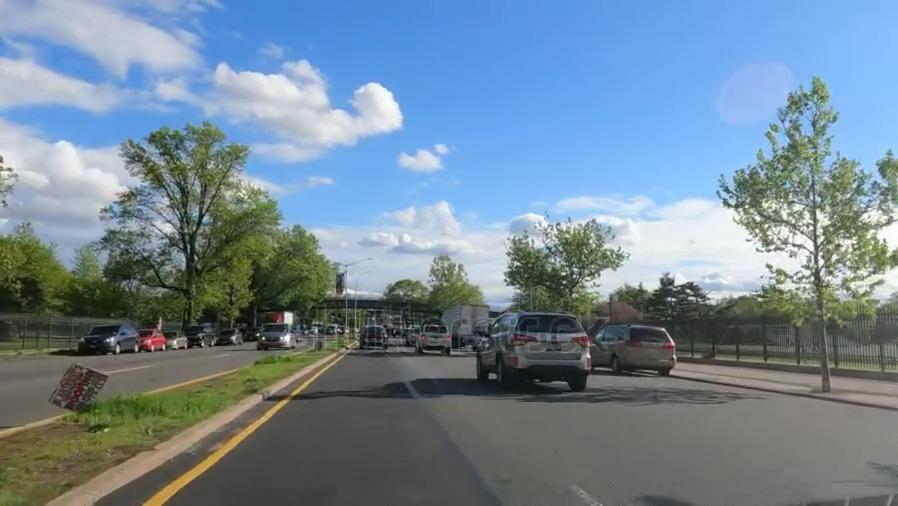car: (482, 314, 593, 383), (595, 324, 681, 380), (79, 325, 143, 356), (414, 323, 453, 355), (257, 323, 296, 350), (185, 327, 214, 350), (361, 325, 389, 348), (141, 327, 163, 354), (165, 330, 185, 351), (219, 328, 239, 345)
truck: (439, 299, 490, 336)
